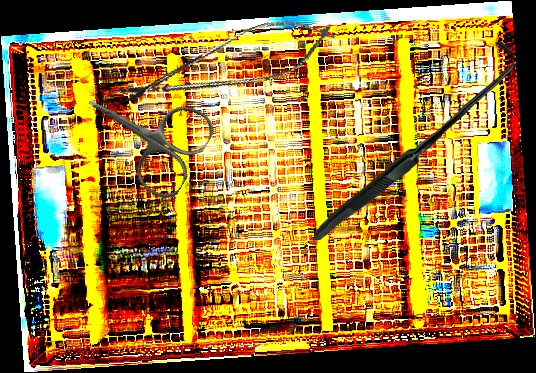Hook Surgical: (310, 41, 517, 240)
Iris Scissors: (64, 59, 221, 206)
Micro Scissor: (110, 3, 344, 126)
